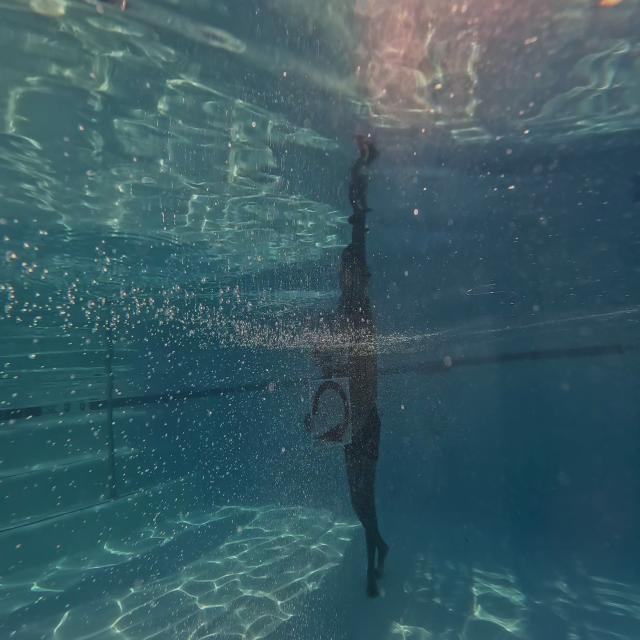red_side: (306, 381, 353, 461)
